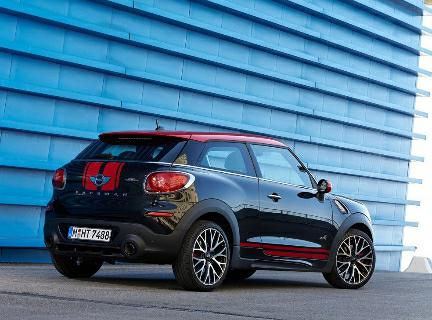MINI-JCWPACEMAN: (33, 128, 397, 285)
